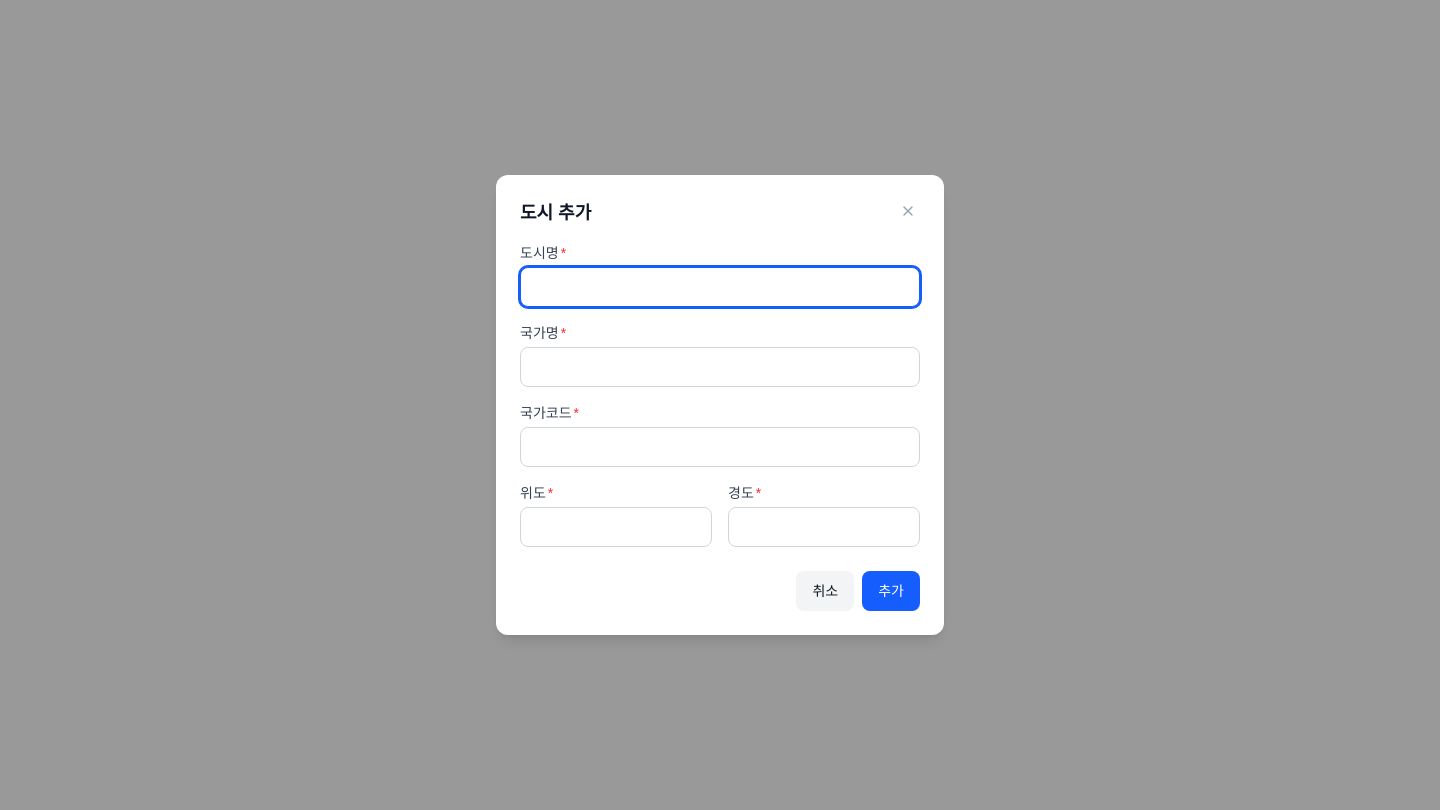
Test case: CityFormModal - create mode (F3) › 위경도 범위를 벗어나면 검증 오류를 표시하고 제출을 막는다 (F3 엣지케이스)
Type "Busan" into the field labelled "도시명*".
click(720, 287); type("Busan")  # box [520, 267, 920, 307]
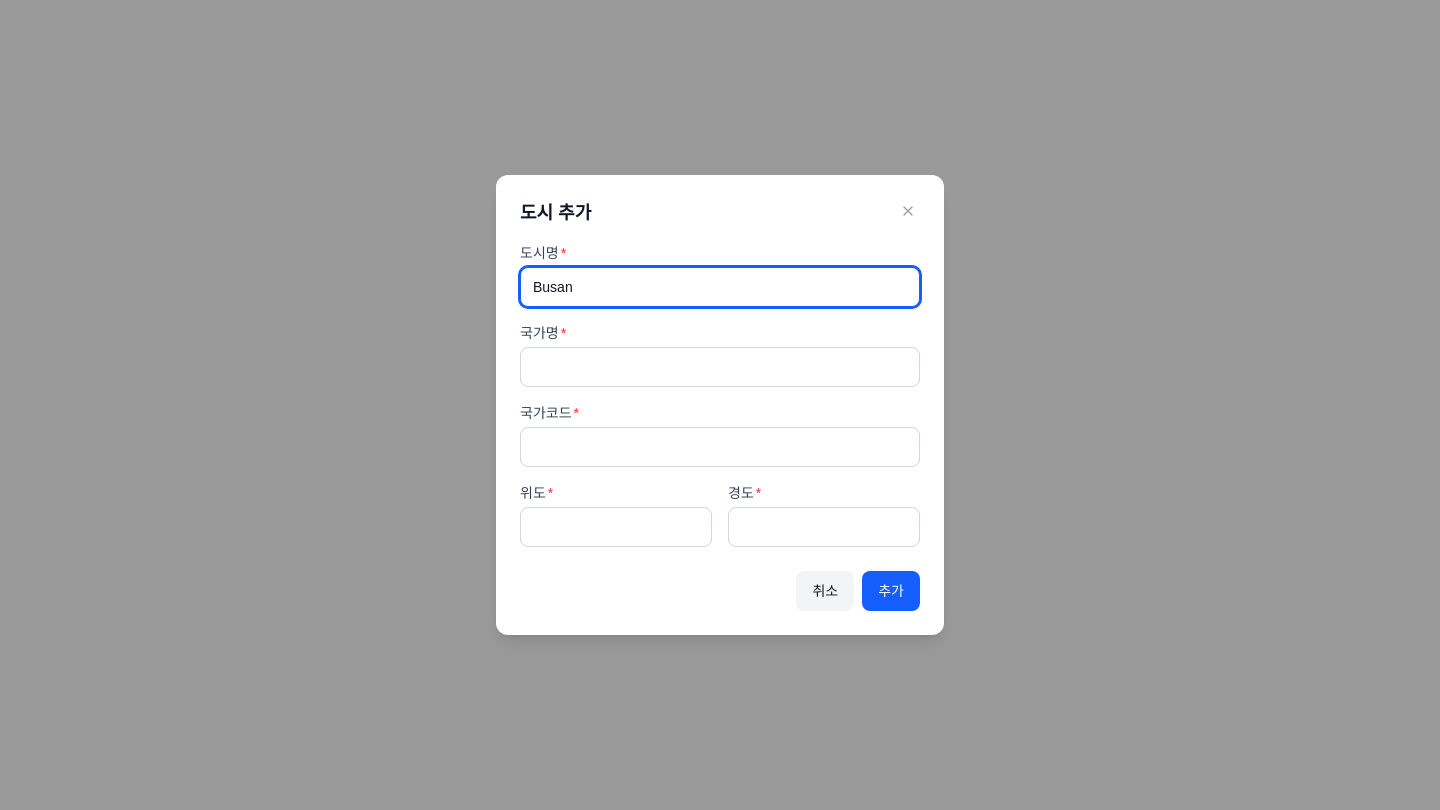
Type "South Korea" into the field labelled "국가명*".
click(720, 367); type("South Korea")  # box [520, 347, 920, 387]
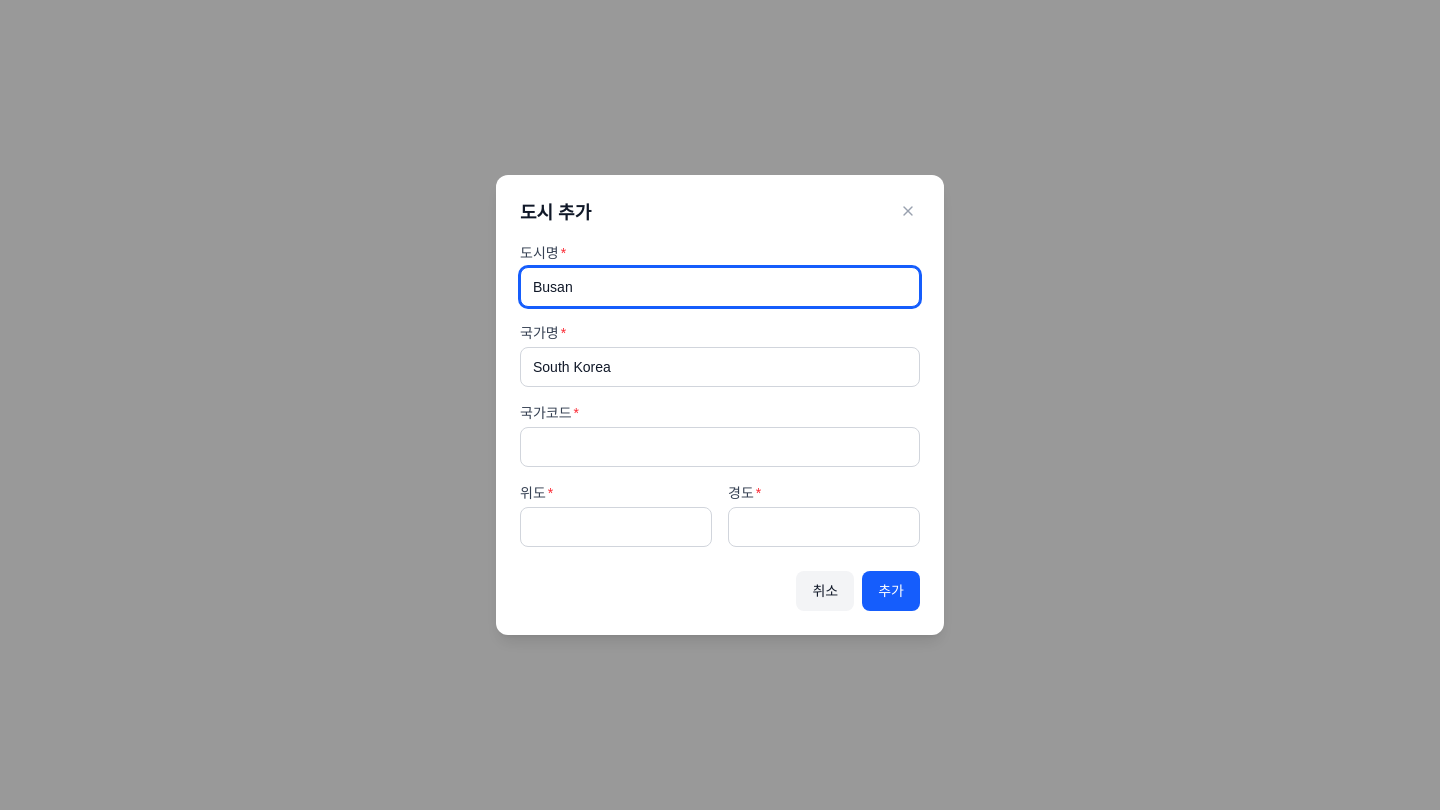
Type "KR" into the field labelled "국가코드*".
click(720, 447); type("KR")  # box [520, 427, 920, 467]
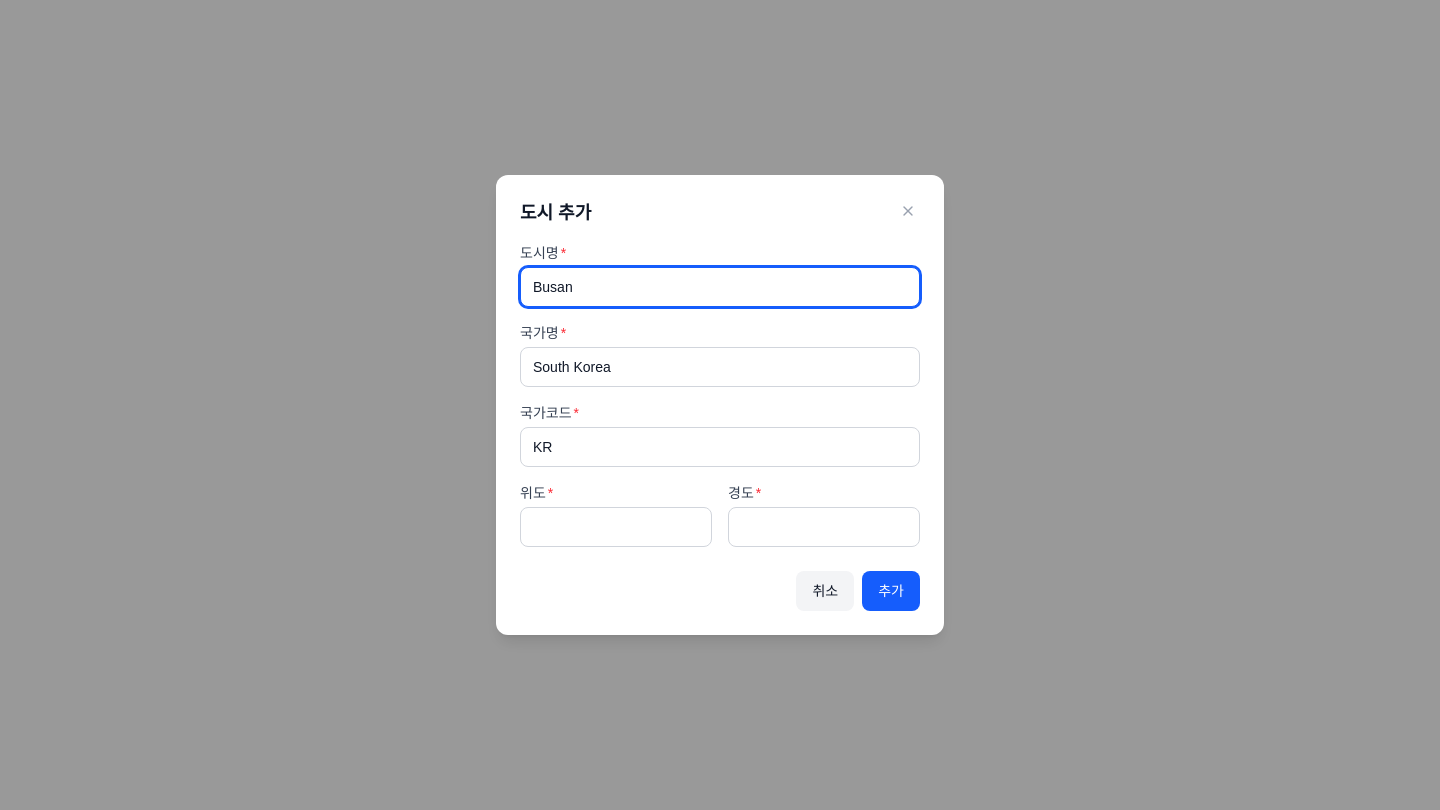
Type "91" into the field labelled "위도*".
click(616, 527); type("91")  # box [520, 507, 712, 547]
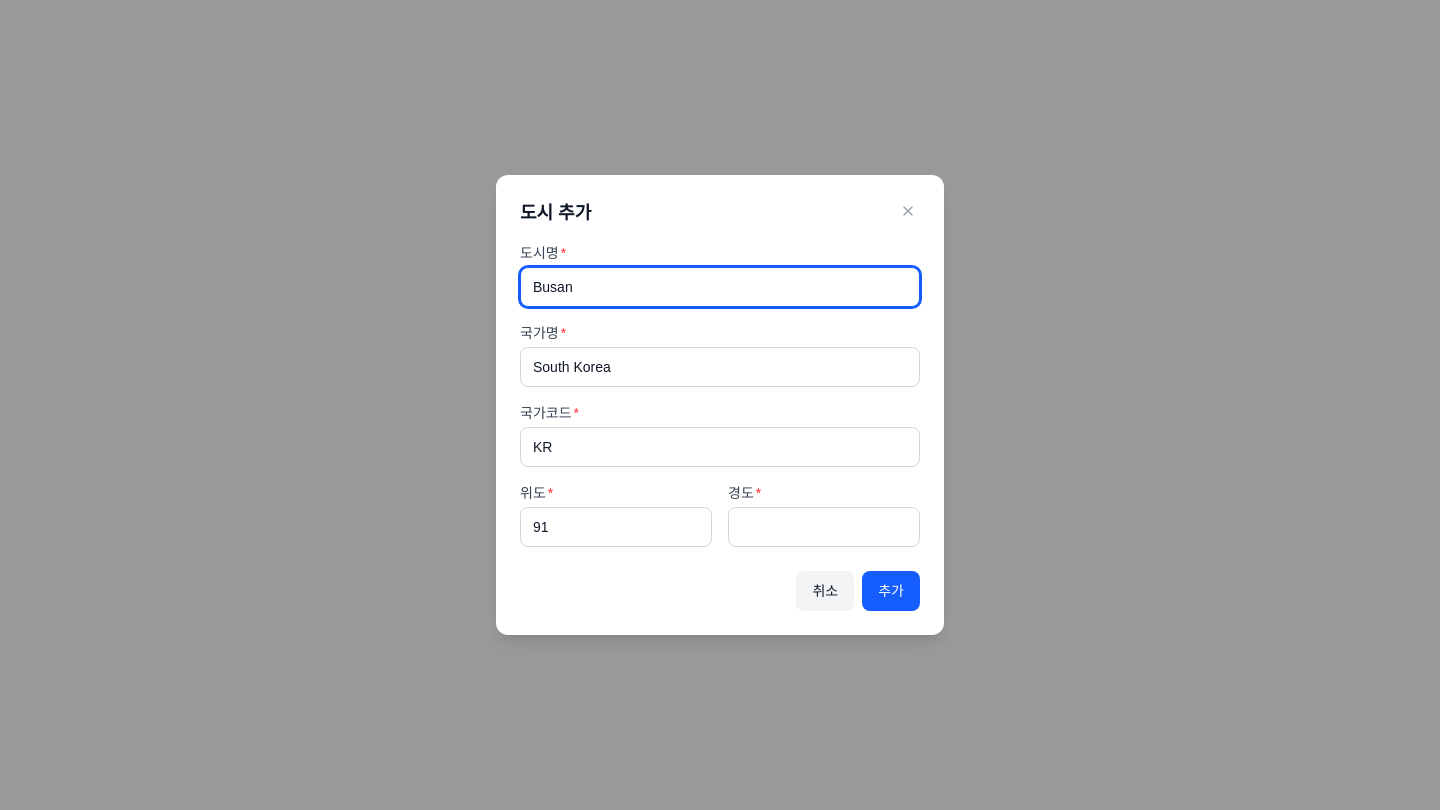
Type "181" into the field labelled "경도*".
click(824, 527); type("181")  # box [728, 507, 920, 547]
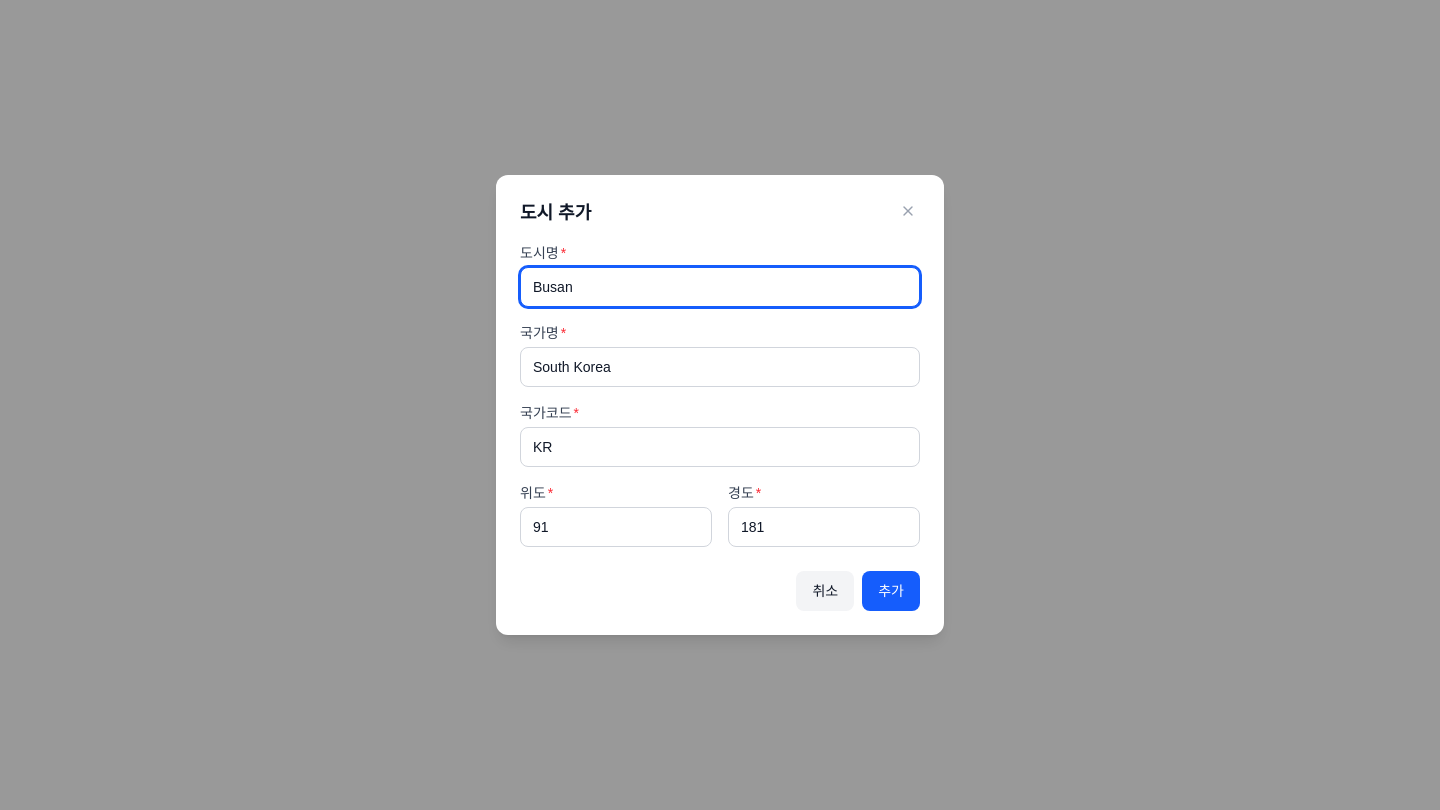
Click the button "추가".
click(891, 591)  # box [862, 571, 920, 611]
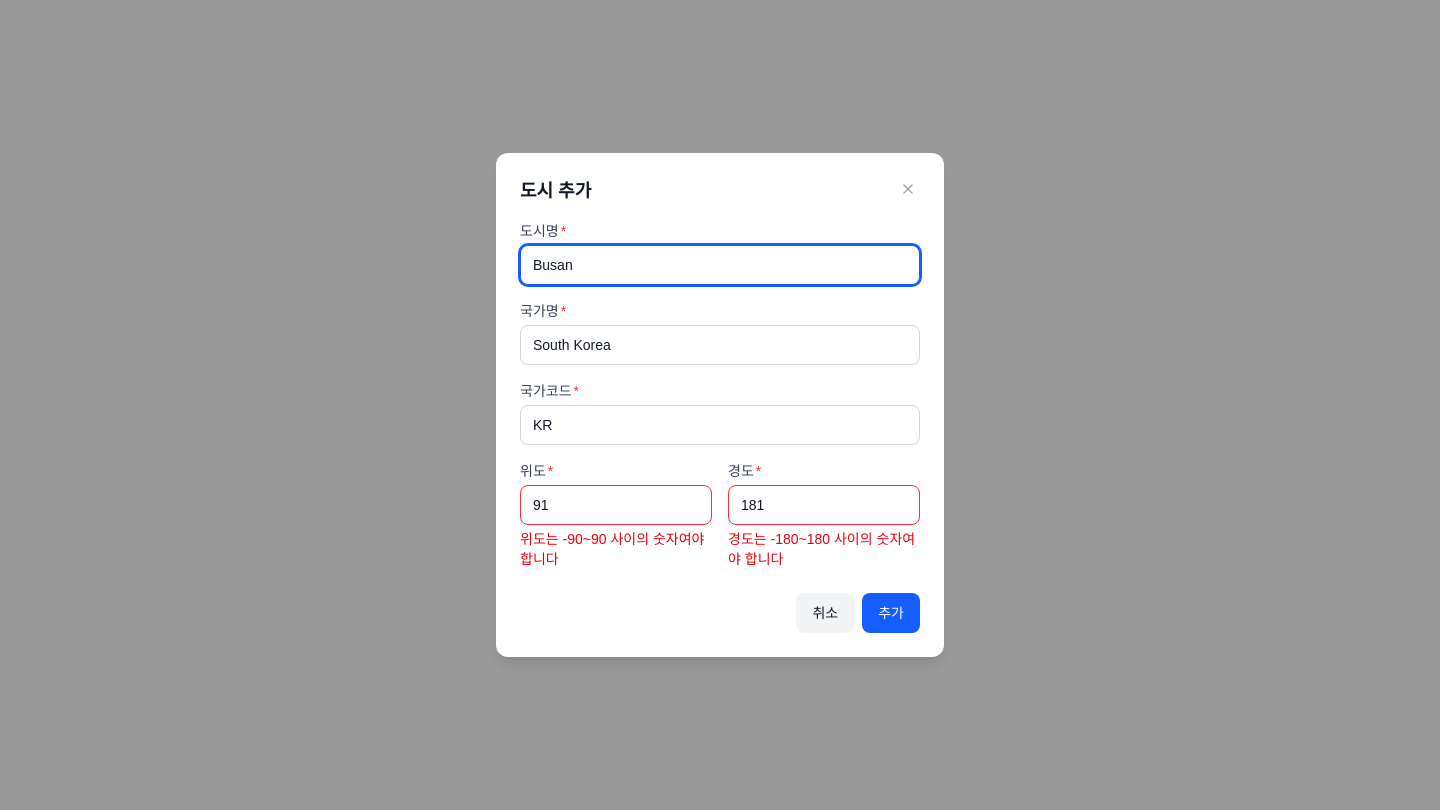
Result: the text "위도는 -90~90 사이의 숫자여야 합니다" is shown at [520, 529, 712, 569]
Result: the text "경도는 -180~180 사이의 숫자여야 합니다" is shown at [728, 529, 920, 569]
